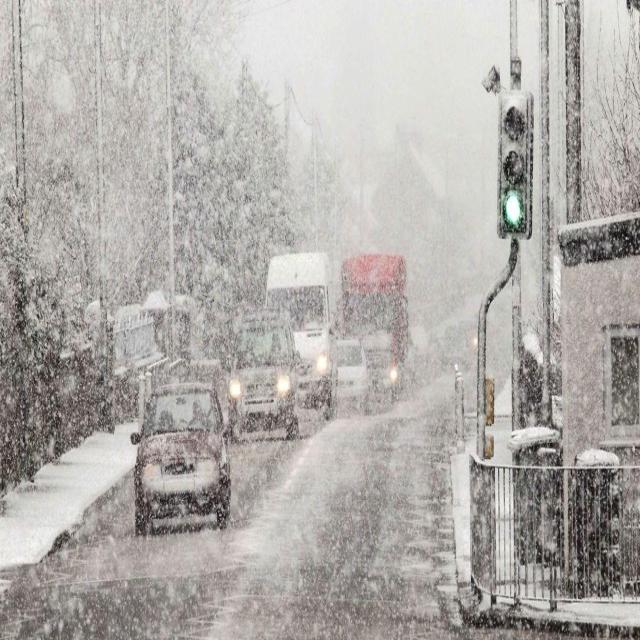Car: (130, 391, 224, 540), (228, 314, 304, 436), (327, 337, 370, 409)
Truck: (332, 248, 410, 395)
Van: (263, 252, 334, 416)
